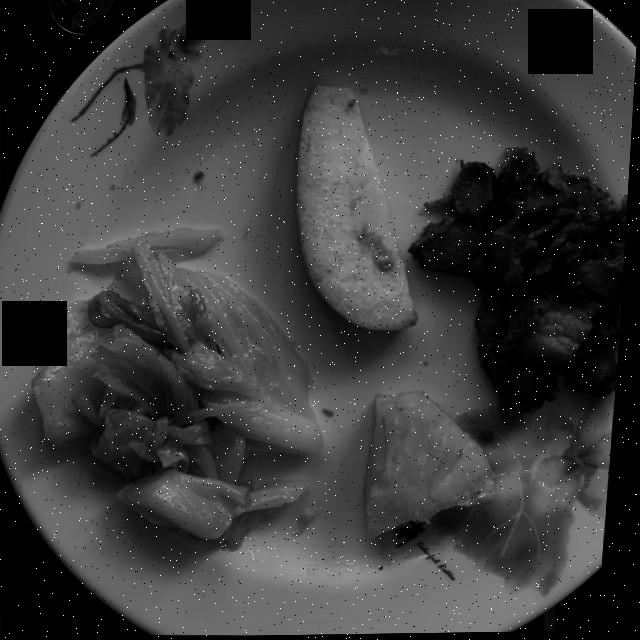cabbage: (36, 228, 328, 544)
coin: (48, 0, 120, 34)
guava -sliced-: (298, 86, 420, 332)
pineapple: (371, 391, 503, 538)
red grilled pork: (413, 148, 631, 419)
